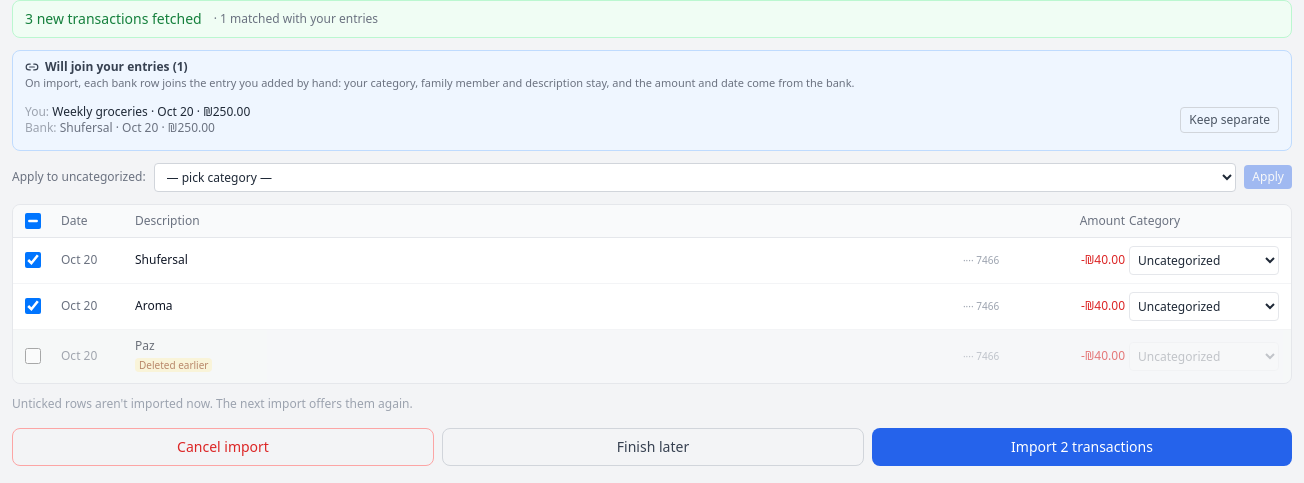
Test: ImportReviewStep with rows in the holding area › explains when the import was already finished elsewhere
Step 1. Click the button "Import 2 transactions" → (1082, 446), box 872,428 -> 1292,466
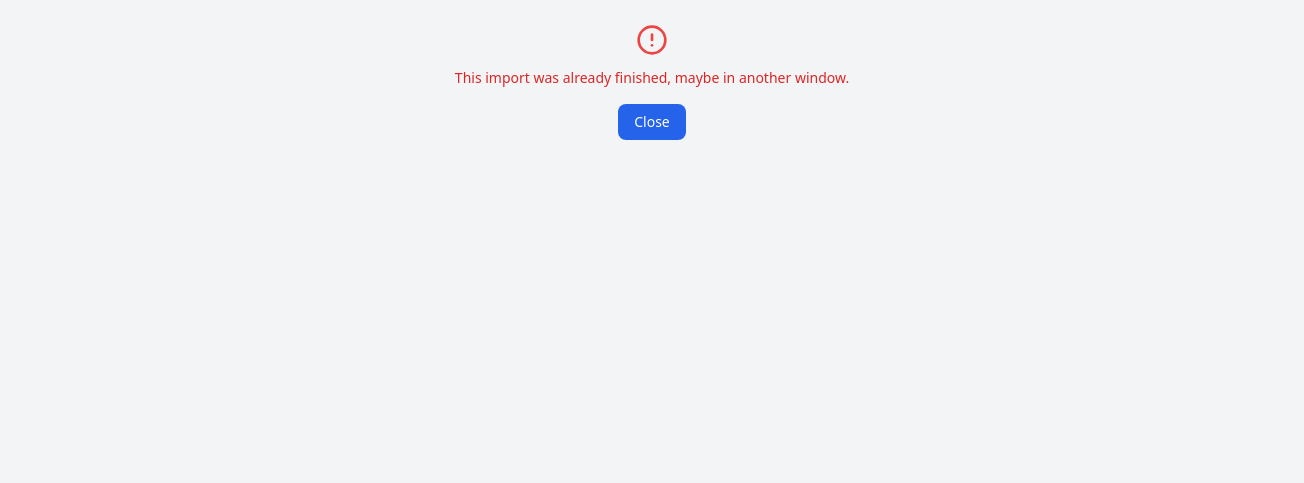
Expected: the text "This import was already finished, maybe in another window." is shown, 455,68 -> 849,88
